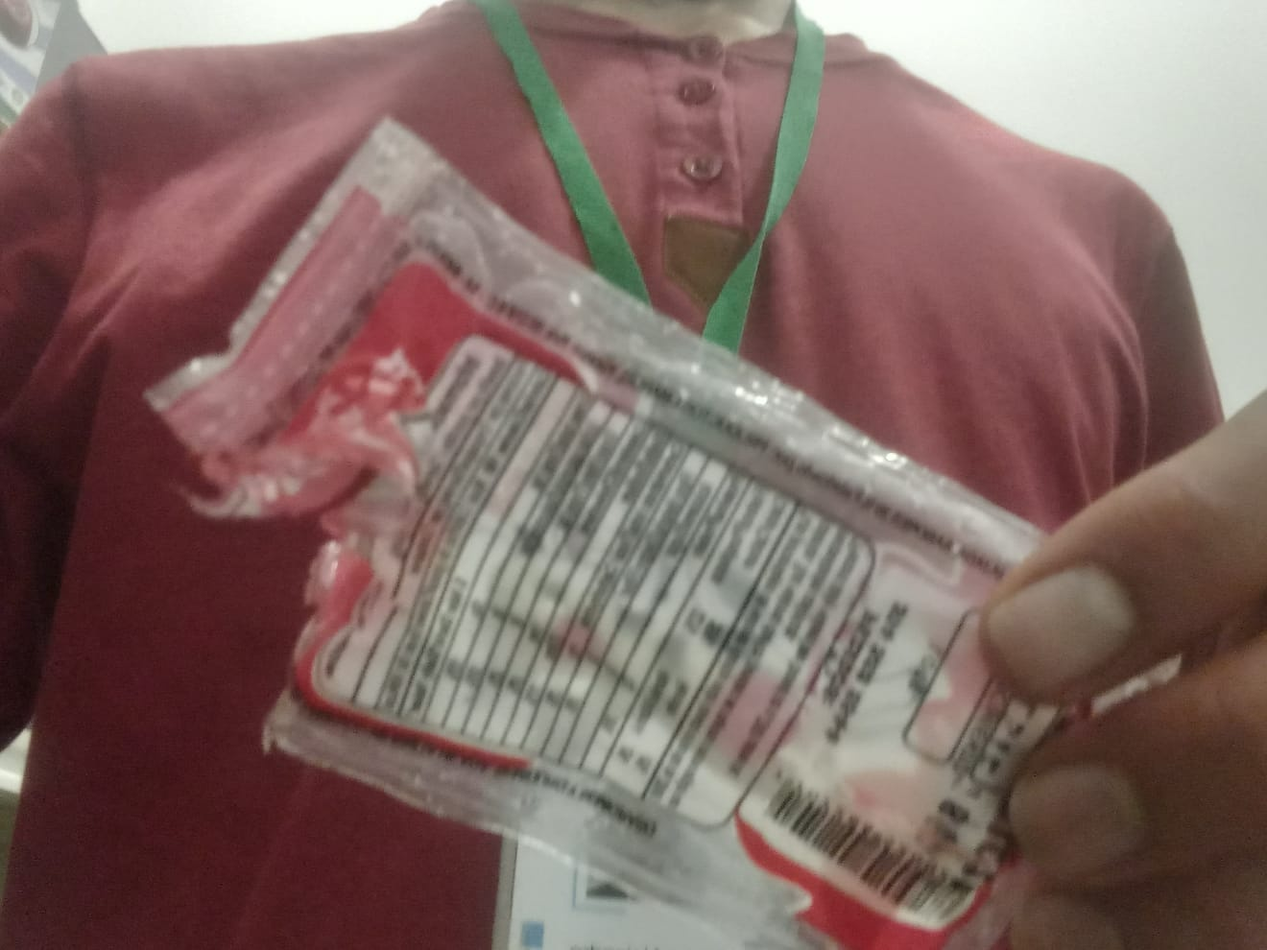Ordinario: (144, 113, 1181, 950)
